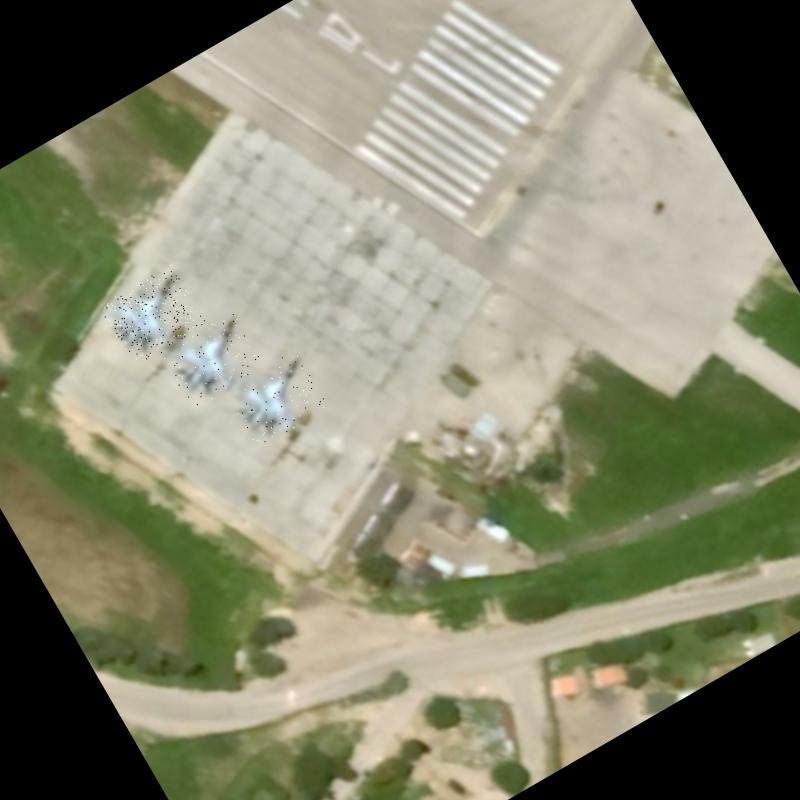A1: (98, 264, 208, 366), (159, 310, 268, 411), (225, 348, 332, 449)
